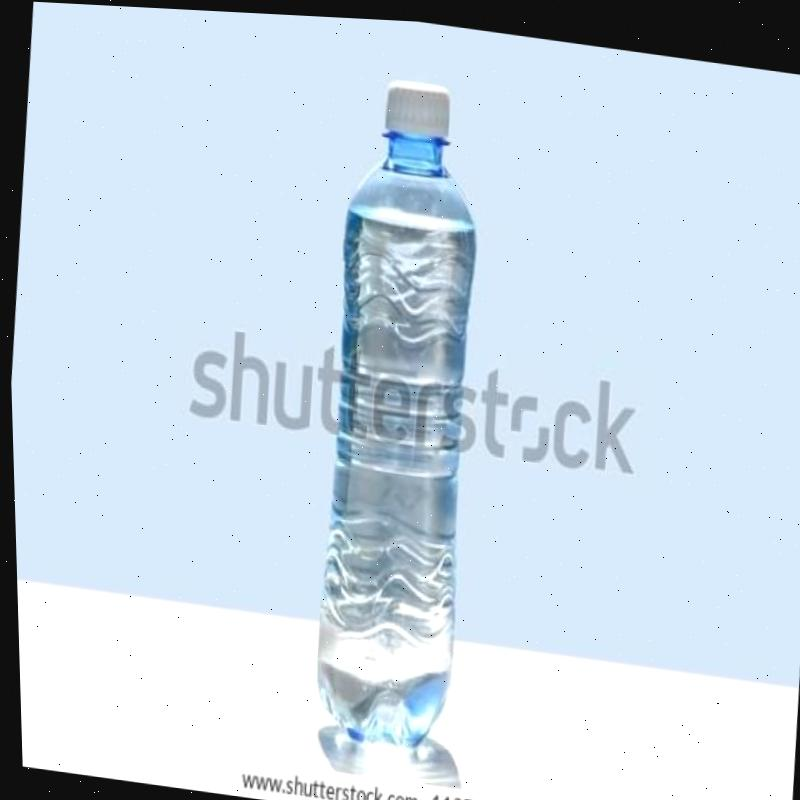botella: (291, 63, 507, 756)
